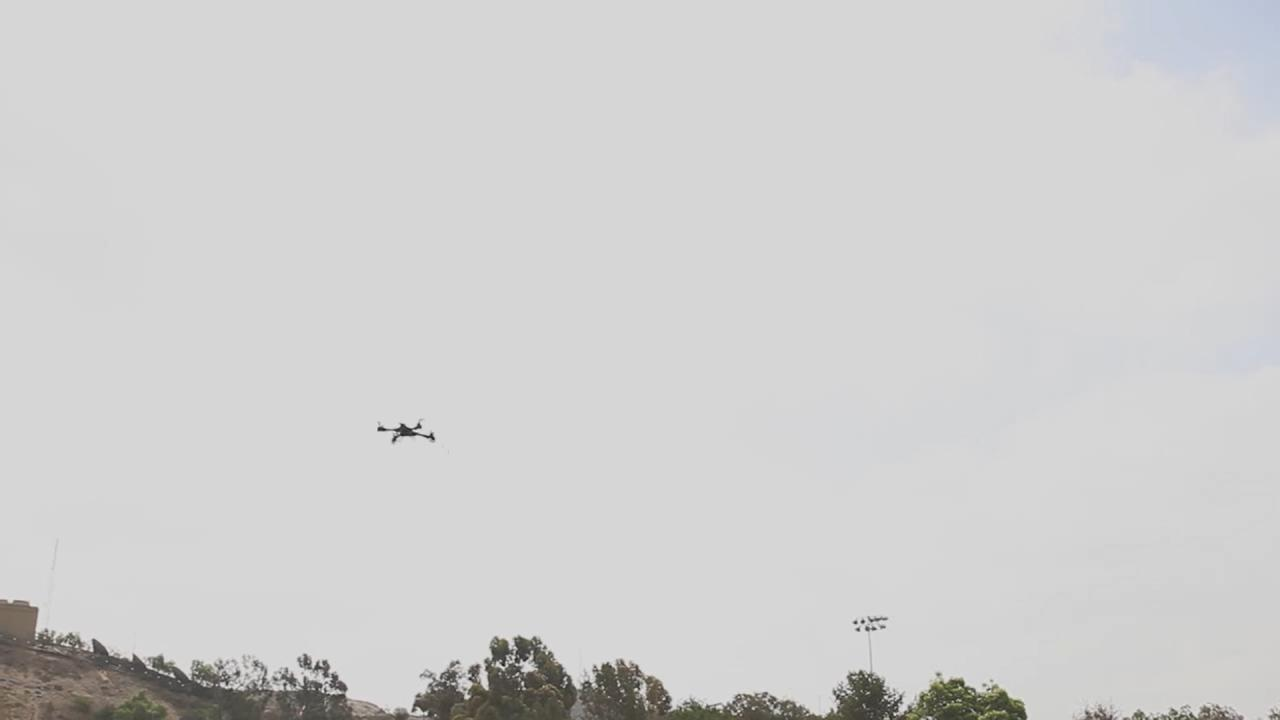Drone: (364, 403, 445, 460)
